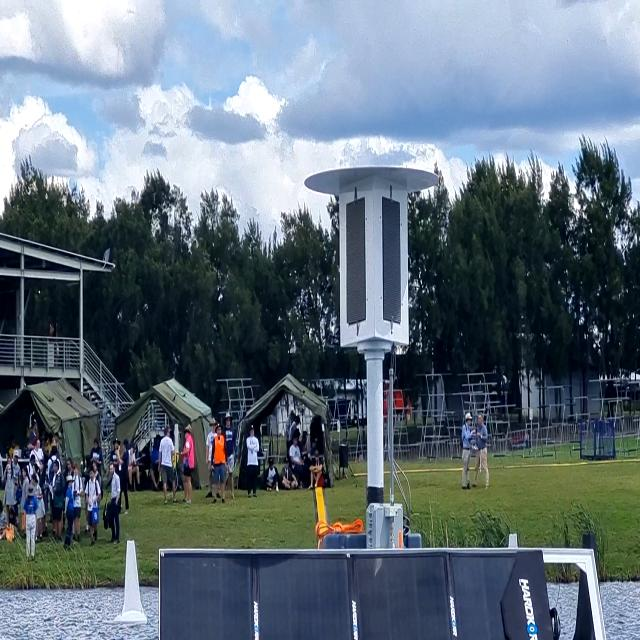led: (343, 191, 406, 338), (342, 192, 371, 336), (378, 190, 406, 335)
